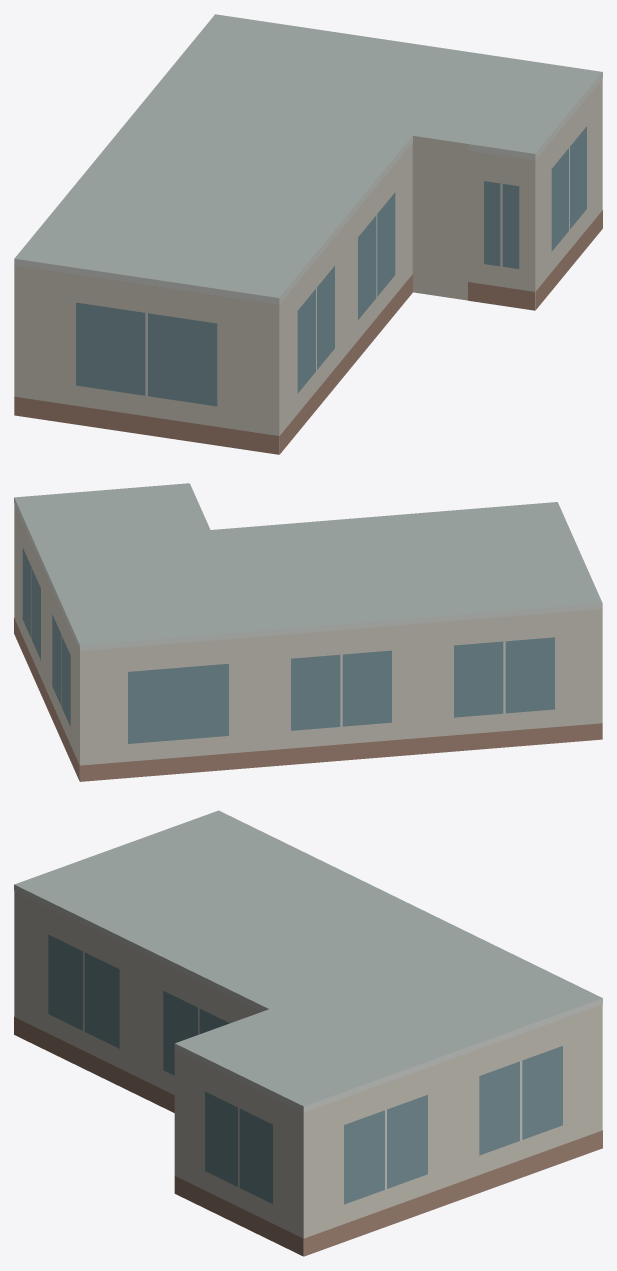
File: survey-upis-32533704.glb
3 views of the same model, one above another, from view 1: azimuth 30°, elevation 25°; view 2: azimuth 150°, elevation 25°; view 3: azimuth 270°, elevation 25° (orthographic). The views are drawn at different scales.
Parts seen in each view (by area): view 1: survey-upis-32533704.tmp; view 2: survey-upis-32533704.tmp; view 3: survey-upis-32533704.tmp.
Boxes of the visible parts, left/top/right/bottom form: survey-upis-32533704.tmp: left=14, top=14, right=602, bottom=454; survey-upis-32533704.tmp: left=14, top=483, right=602, bottom=781; survey-upis-32533704.tmp: left=14, top=810, right=602, bottom=1256.
Bounding box in the file's own units: 12.91 × 3.05 × 10.84.
